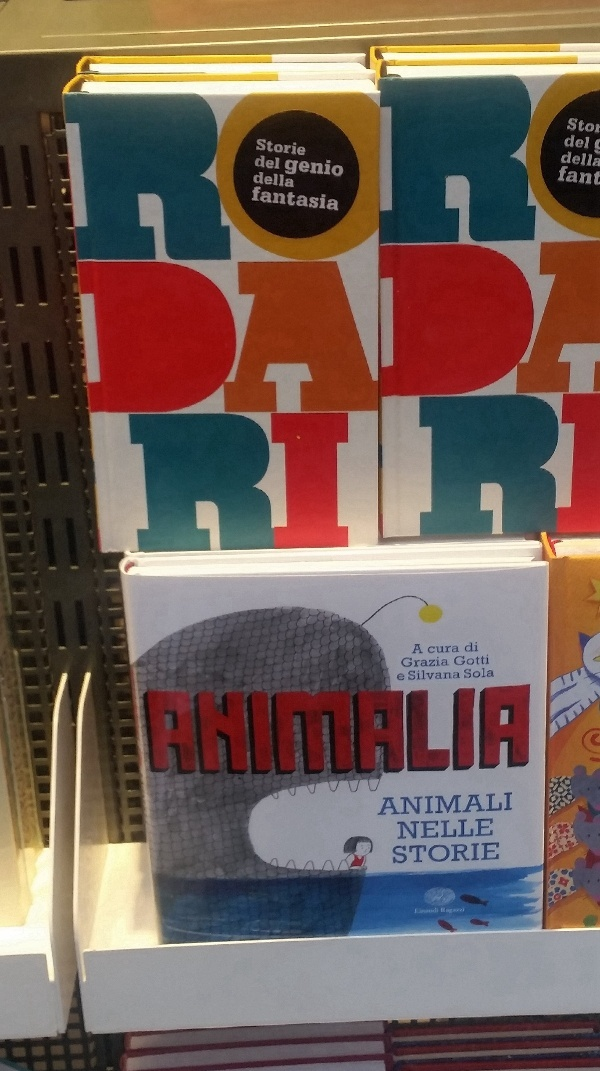text: (385, 78, 400, 255), (401, 78, 416, 255), (417, 78, 432, 255), (433, 78, 448, 255), (449, 78, 464, 255), (465, 78, 480, 255), (481, 78, 496, 255), (497, 78, 512, 255), (513, 78, 528, 255), (65, 97, 80, 264), (81, 97, 96, 264), (97, 97, 112, 264), (113, 97, 128, 264), (129, 97, 144, 264), (145, 97, 160, 264), (161, 97, 176, 264), (177, 97, 192, 264), (193, 97, 208, 264), (209, 97, 224, 264), (225, 97, 240, 264), (241, 97, 256, 264), (257, 97, 272, 264), (273, 97, 288, 264), (289, 97, 304, 264), (305, 97, 320, 264), (321, 97, 336, 264), (337, 97, 352, 264), (353, 97, 368, 264), (385, 241, 400, 404), (401, 241, 416, 404), (417, 241, 432, 404), (433, 241, 448, 404), (449, 241, 464, 404), (465, 241, 480, 404), (481, 241, 496, 404), (497, 241, 512, 404), (513, 241, 528, 404), (529, 241, 544, 404), (545, 241, 560, 404), (561, 241, 576, 404), (577, 241, 592, 404), (81, 260, 96, 416), (97, 260, 112, 416), (113, 260, 128, 416), (129, 260, 144, 416), (145, 260, 160, 416), (161, 260, 176, 416), (177, 260, 192, 416), (193, 260, 208, 416), (209, 260, 224, 416), (225, 260, 240, 416), (241, 260, 256, 416), (257, 260, 272, 416), (273, 260, 288, 416), (289, 260, 304, 416), (305, 260, 320, 416), (321, 260, 336, 416), (337, 260, 352, 416), (353, 260, 368, 416), (369, 260, 384, 416), (433, 394, 448, 548), (449, 394, 464, 548), (465, 394, 480, 548), (481, 394, 496, 548), (497, 394, 512, 548), (513, 394, 528, 548), (529, 394, 544, 548), (545, 394, 560, 548), (561, 394, 576, 548), (577, 394, 592, 548), (145, 414, 160, 560), (161, 414, 176, 560), (177, 414, 192, 560), (193, 414, 208, 560), (209, 414, 224, 560), (225, 414, 240, 560), (241, 414, 256, 560), (257, 414, 272, 560), (273, 414, 288, 560), (289, 414, 304, 560), (305, 414, 320, 560), (321, 414, 336, 560), (130, 414, 144, 560), (337, 414, 351, 560), (419, 394, 432, 548), (369, 97, 380, 264), (145, 680, 160, 790), (161, 680, 176, 790), (177, 680, 192, 790), (193, 680, 208, 790), (209, 680, 224, 790), (225, 680, 240, 790), (241, 680, 256, 790), (257, 680, 272, 790), (273, 680, 288, 790), (289, 680, 304, 790), (305, 680, 320, 790), (321, 680, 336, 790), (337, 680, 352, 790), (353, 680, 368, 790), (369, 680, 384, 790), (385, 680, 400, 790), (401, 680, 416, 790), (417, 680, 432, 790), (433, 680, 448, 790), (449, 680, 464, 790), (465, 680, 480, 790), (481, 680, 496, 790), (497, 680, 512, 790), (513, 680, 528, 790), (529, 78, 537, 255), (593, 241, 600, 404), (593, 394, 600, 548), (380, 78, 384, 255), (380, 241, 384, 404), (139, 680, 144, 790), (385, 260, 388, 416), (529, 680, 533, 790), (385, 791, 400, 819), (401, 791, 416, 819), (417, 791, 432, 819), (433, 791, 448, 819), (449, 791, 464, 819), (465, 791, 480, 819), (481, 791, 496, 819), (497, 791, 512, 819), (257, 185, 272, 213), (273, 185, 288, 213), (289, 185, 304, 213), (305, 185, 320, 213), (321, 185, 336, 213), (401, 816, 416, 841), (417, 816, 432, 841), (433, 816, 448, 841), (449, 816, 464, 841), (465, 816, 480, 841), (401, 841, 416, 866), (417, 841, 432, 866), (433, 841, 448, 866), (449, 841, 464, 866), (465, 841, 480, 866), (481, 841, 496, 866), (289, 156, 304, 181), (305, 156, 320, 181), (321, 156, 336, 181), (577, 112, 592, 137), (257, 134, 272, 158), (273, 134, 288, 158), (289, 134, 304, 158), (257, 167, 272, 191), (273, 167, 288, 191), (561, 164, 576, 187), (577, 164, 592, 187), (481, 816, 494, 841), (257, 153, 272, 173), (577, 150, 592, 170), (577, 132, 591, 152), (563, 150, 576, 170), (465, 653, 480, 668), (433, 656, 449, 669), (337, 156, 345, 181), (566, 132, 576, 152), (401, 656, 416, 669), (417, 656, 432, 669), (465, 667, 480, 680), (481, 667, 495, 680), (417, 669, 432, 681), (433, 669, 448, 681), (393, 841, 400, 866), (569, 112, 576, 137), (593, 112, 600, 137), (465, 641, 479, 653), (289, 167, 296, 191), (63, 97, 64, 264), (433, 645, 448, 656), (593, 164, 600, 187), (273, 153, 281, 173), (79, 260, 80, 416), (454, 653, 464, 668), (417, 907, 432, 917), (449, 669, 461, 681), (593, 150, 600, 170), (481, 653, 490, 668), (449, 906, 464, 915), (449, 645, 461, 656), (595, 136, 600, 159), (417, 643, 425, 656), (396, 816, 400, 841), (408, 669, 416, 681), (253, 185, 256, 213), (337, 185, 340, 213), (497, 841, 500, 866), (285, 156, 288, 181), (305, 134, 308, 158), (433, 907, 440, 917), (441, 906, 448, 915), (382, 791, 384, 819), (254, 167, 256, 191), (428, 645, 432, 656), (401, 673, 405, 681), (513, 791, 514, 819), (414, 643, 416, 656), (397, 673, 400, 681), (414, 907, 416, 917), (255, 153, 256, 173), (465, 906, 466, 915)
